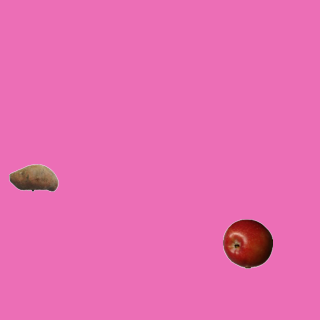Apple Braeburn: (222, 218, 272, 268)
Potato Sweet: (8, 152, 58, 202)
